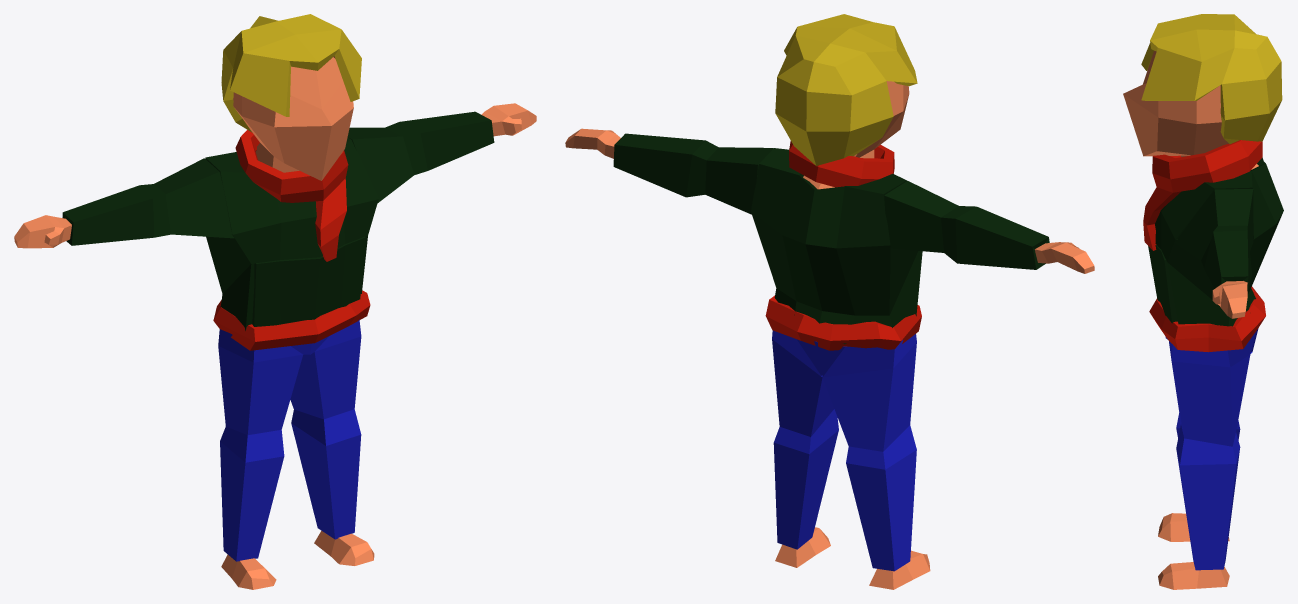
The model's file is kleine_prins.obj.
3 views of the same model, side by side, from view 1: azimuth 30°, elevation 25°; view 2: azimuth 150°, elevation 25°; view 3: azimuth 270°, elevation 25° (orthographic).
Visible parts, largest first — view 1: Cube.002, Cube.003, Cube, Cube.001, Torus, Torus.001; view 2: Cube.002, Cube.003, Cube.001, Cube, Torus.001, Torus; view 3: Cube.002, Cube.003, Cube.001, Cube, Torus, Torus.001.
Boxes of the visible parts, <box> form: Cube.002: <box>62,111,494,330</box>; Cube.003: <box>218,319,361,561</box>; Cube: <box>14,56,536,589</box>; Cube.001: <box>221,14,361,132</box>; Torus: <box>235,130,348,261</box>; Torus.001: <box>213,290,370,350</box>; Cube.002: <box>613,133,1049,344</box>; Cube.003: <box>772,330,916,571</box>; Cube.001: <box>775,14,917,165</box>; Cube: <box>565,81,1094,589</box>; Torus.001: <box>765,295,921,350</box>; Torus: <box>789,141,894,187</box>; Cube.002: <box>1148,157,1283,326</box>; Cube.003: <box>1165,328,1258,570</box>; Cube.001: <box>1141,14,1282,143</box>; Cube: <box>1123,50,1258,589</box>; Torus: <box>1143,140,1262,250</box>; Torus.001: <box>1149,286,1265,352</box>.
Bounding box in the file's own units: 9.26 × 9.03 × 2.49.
